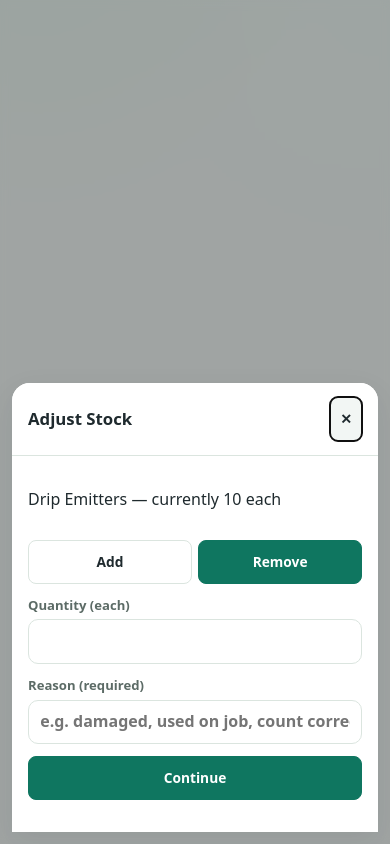
Scenario: AdjustStockSheet › requires a reason for a positive (add) adjustment and does not submit without one
Click the button "Add" at (110, 562), box [28,540,192,584]
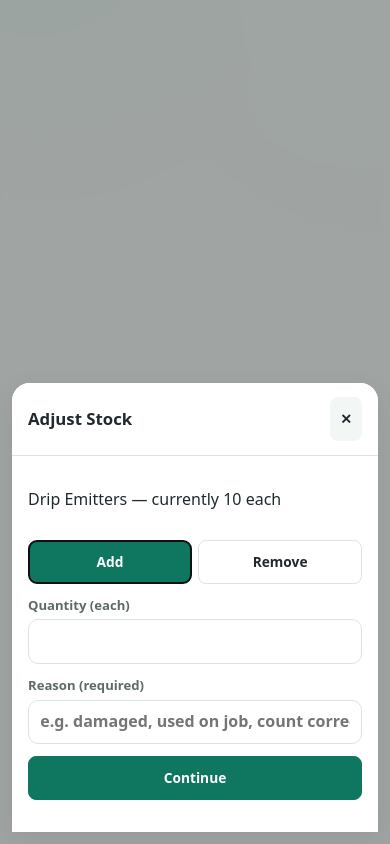
Type "5" into the number field labelled "Quantity (each)" at (195, 642), box [28,619,362,664]
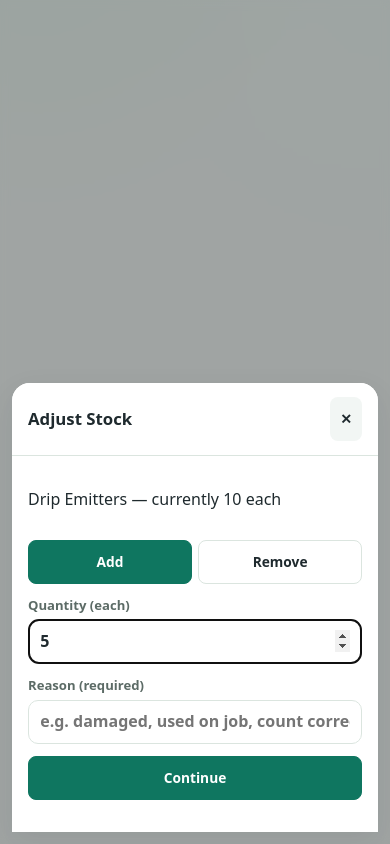
Click the button "Continue" at (195, 778), box [28,756,362,800]
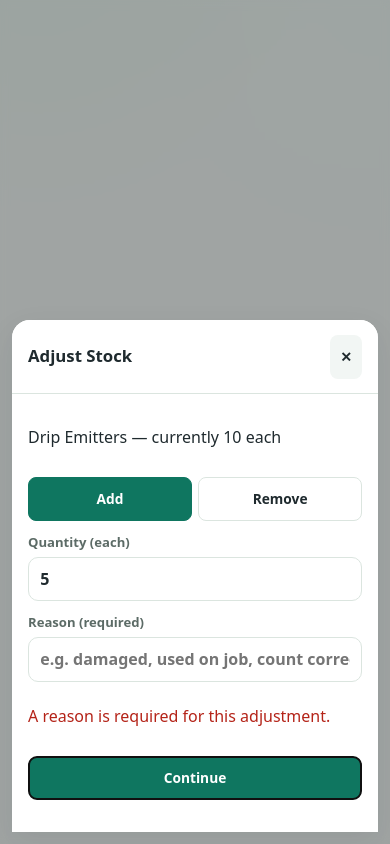
expect the text "A reason is required for this adjustment." is shown: met, box [28,705,362,728]
